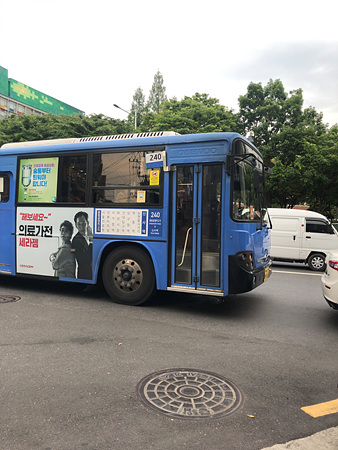entrance: (174, 158, 222, 291)
